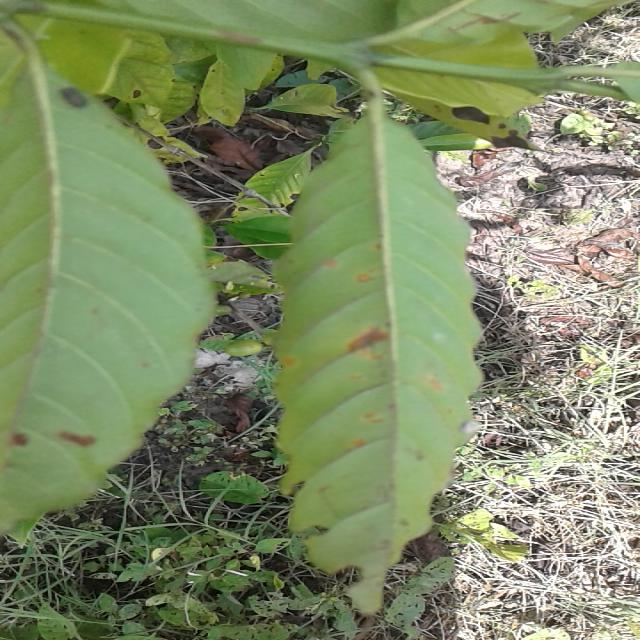Enfermedad-Roya: (270, 96, 483, 611)
